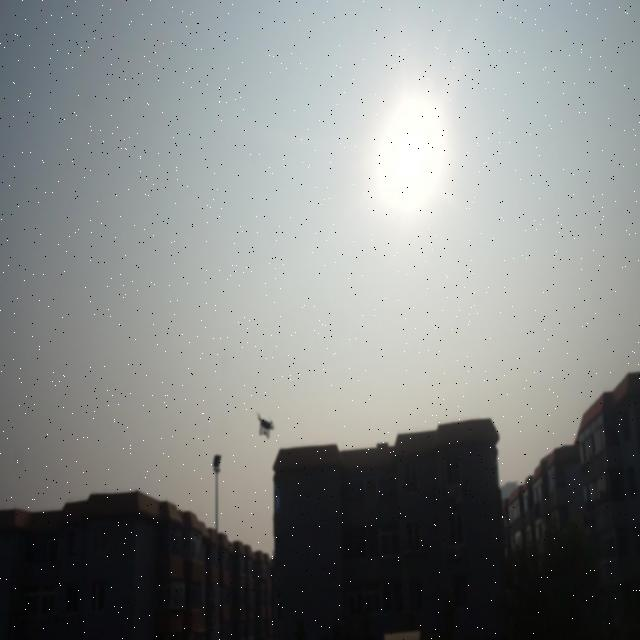UAV: (256, 413, 274, 439)
